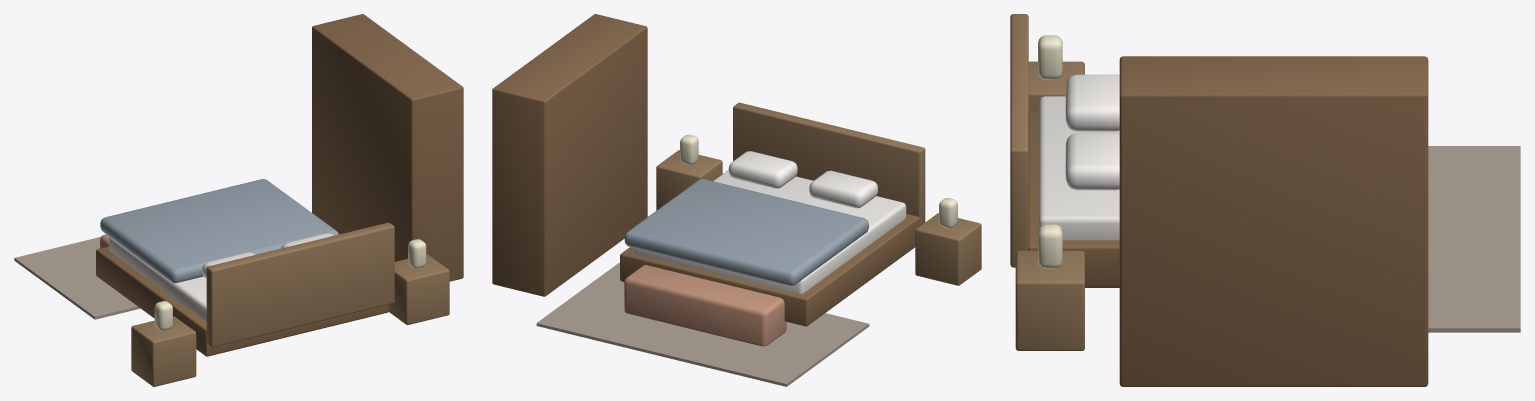
The model's file is bedroom.glb.
3 views of the same model, side by side, from view 1: azimuth 30°, elevation 25°; view 2: azimuth 150°, elevation 25°; view 3: azimuth 270°, elevation 25° (orthographic). The views are drawn at different scales.
Visible parts, largest first — view 1: Bedroom; view 2: Bedroom; view 3: Bedroom.
Part boxes in pixels (bbox=[...]): Bedroom: bbox=[14, 14, 463, 386]; Bedroom: bbox=[492, 14, 981, 386]; Bedroom: bbox=[1010, 14, 1520, 386].
Size of the model in its own units: 3.95 by 2.1 by 3.31.
